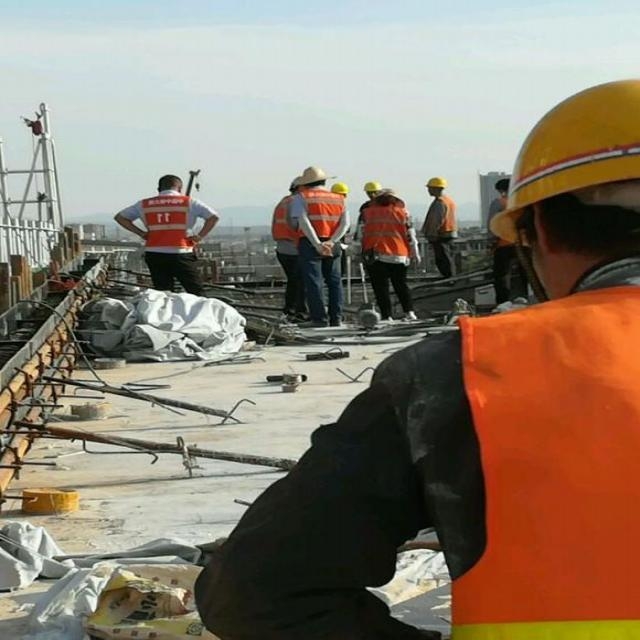Reflective-Jacket: (417, 275, 637, 636), (272, 189, 348, 256), (130, 193, 202, 255), (358, 196, 412, 262), (425, 195, 458, 242)
Safety-Helmet: (495, 74, 640, 218), (287, 162, 334, 192), (150, 170, 188, 194), (424, 174, 451, 190), (361, 179, 385, 194), (331, 180, 352, 196)
